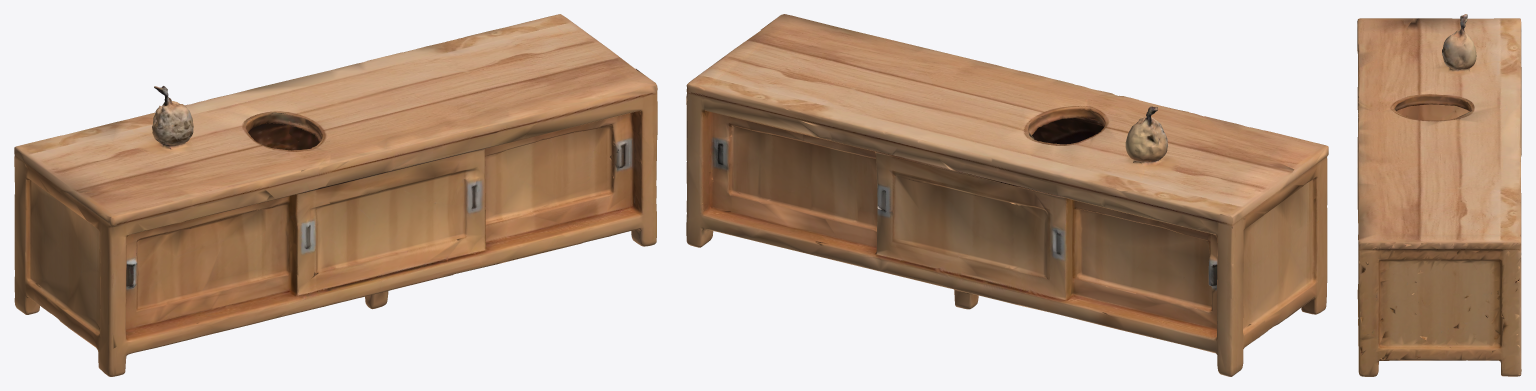
The model's file is coffee-tek-meuble-tv-180_clean.glb.
The picture shows the model from 3 angles, left to right: view 1: azimuth 30°, elevation 25°; view 2: azimuth 150°, elevation 25°; view 3: azimuth 270°, elevation 25°; orthographic projection. The views are drawn at different scales.
Size of the model in its own units: 2 by 0.7681 by 0.6205.
1 material, 1 textured.
